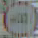Heavy Vehicles: (1, 1, 37, 36)
